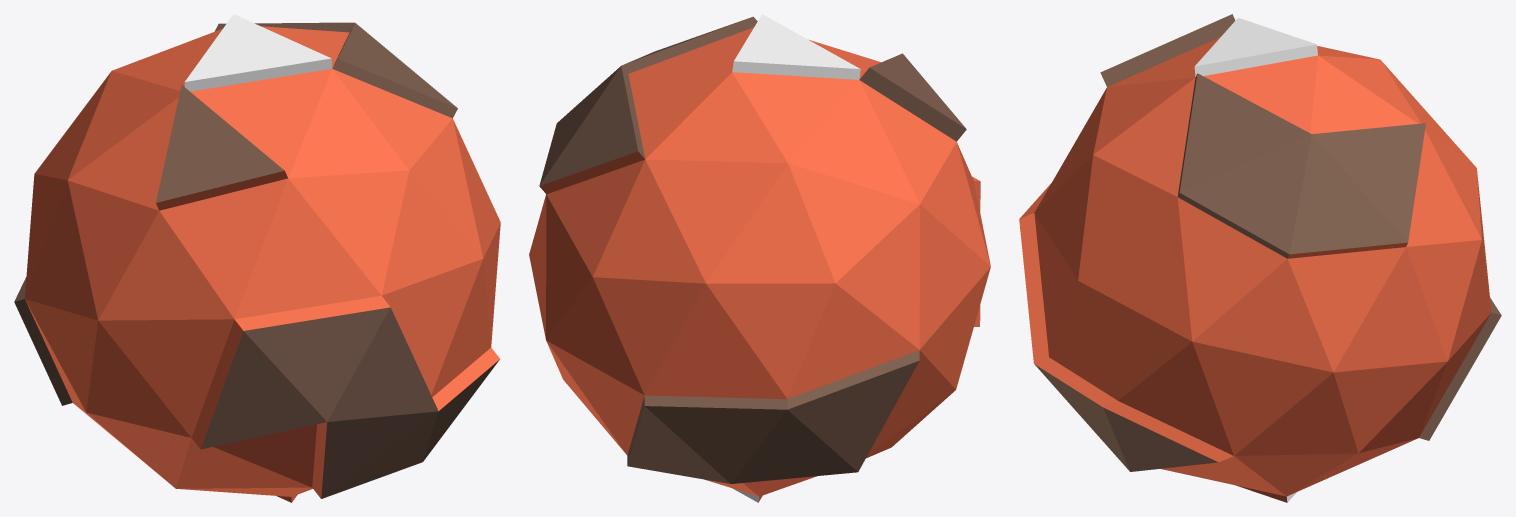
File: Mars.fbx
3 views of the same model, side by side, from view 1: azimuth 30°, elevation 25°; view 2: azimuth 150°, elevation 25°; view 3: azimuth 270°, elevation 25° (orthographic). The views are drawn at different scales.
Visible parts, largest first — view 1: Mars.001; view 2: Mars.001; view 3: Mars.001.
Boxes of the visible parts, box(x1,y1,x2,y2) form: Mars.001: box(14, 14, 500, 502); Mars.001: box(529, 14, 990, 502); Mars.001: box(1019, 14, 1501, 502).
Bounding box in the file's own units: 103 × 108 × 109.
